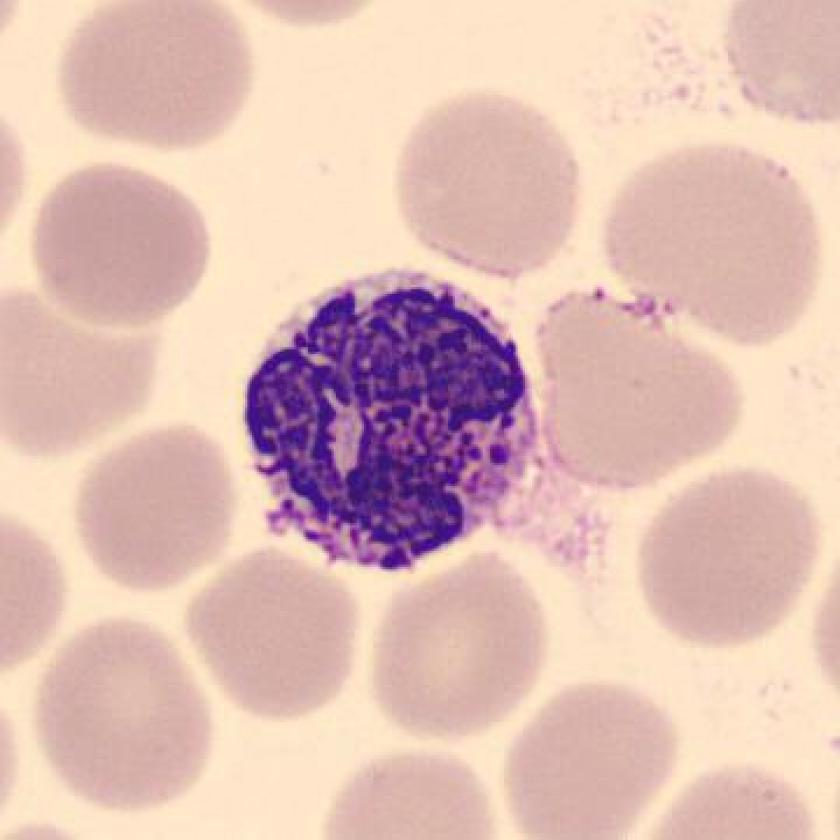basophil: (230, 265, 538, 575)
